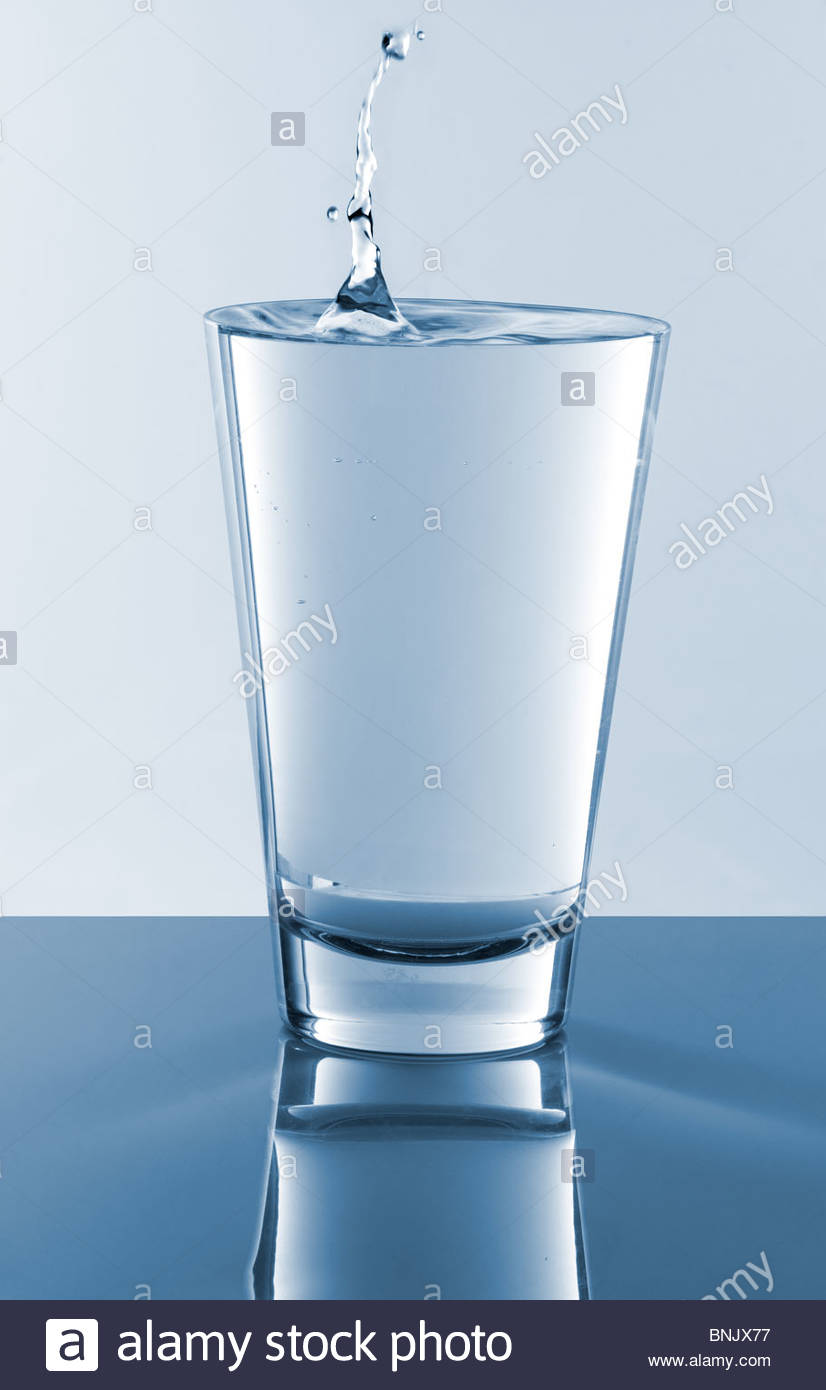glass of water: (219, 315, 626, 1059)
